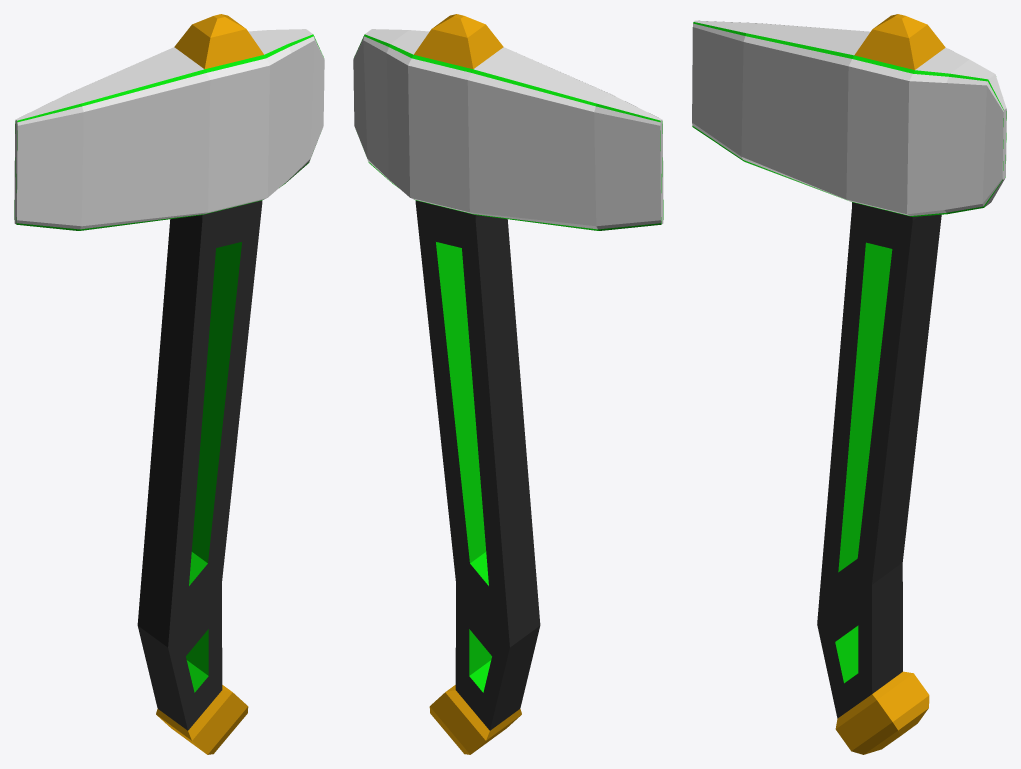
File: axe.fbx
The picture shows the model from 3 angles, left to right: view 1: azimuth 30°, elevation 25°; view 2: azimuth 150°, elevation 25°; view 3: azimuth 330°, elevation 25°; orthographic projection.
Parts seen in each view (by area): view 1: Cube; view 2: Cube; view 3: Cube.
Boxes of the visible parts, bbox=[...] form: Cube: bbox=[14, 14, 324, 754]; Cube: bbox=[353, 14, 663, 754]; Cube: bbox=[692, 14, 1006, 754].
Bounding box in the file's own units: 105 × 235 × 24.59.
